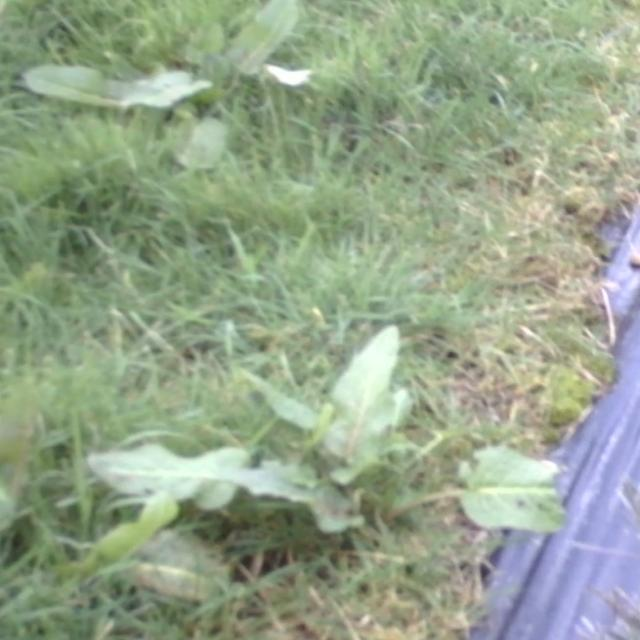organic waste: (46, 331, 600, 563), (0, 0, 378, 161)
